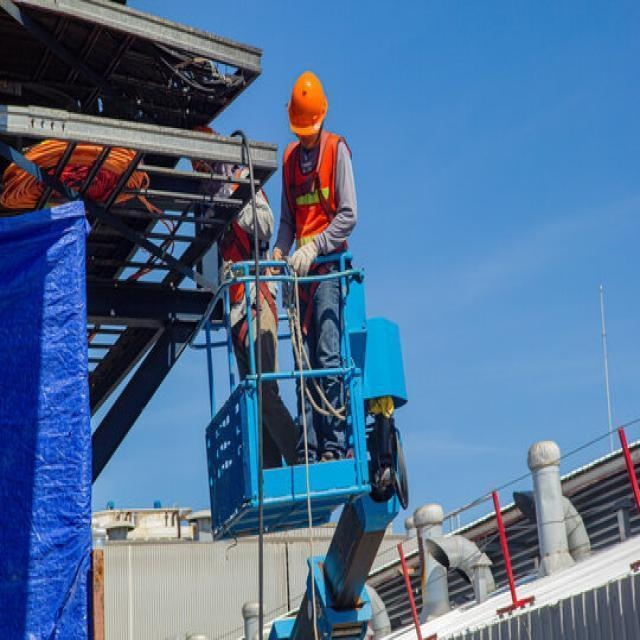Arnes_seguridad: (219, 178, 282, 350), (289, 133, 341, 312)
